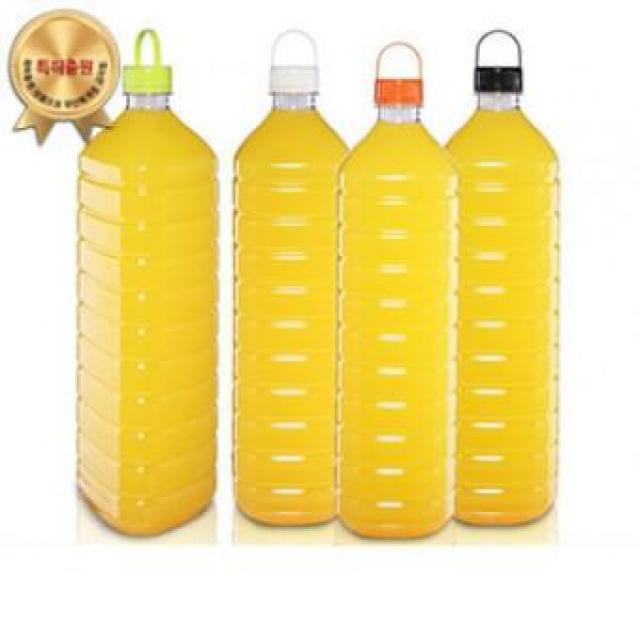bottle: (85, 18, 220, 554), (327, 37, 460, 563), (448, 41, 574, 555), (225, 28, 342, 537)
